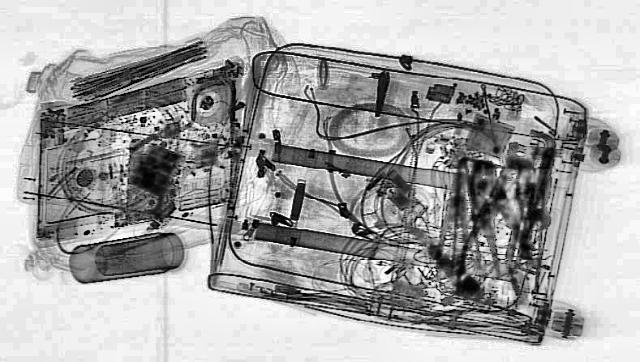Pliers: (455, 158, 539, 276)
